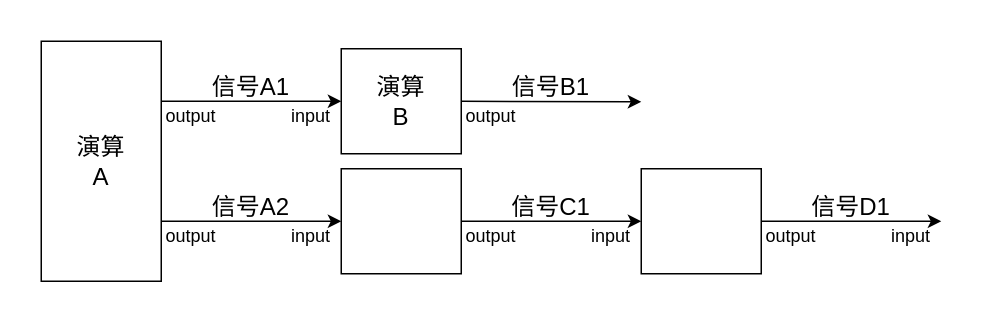
The diagram is 981 pixels wide and 321 high, and some of its shapes have lost their labels. Each missing label, with the box of its shape:
演算 C: (340, 167, 461, 274)
演算 D: (640, 167, 761, 274)
